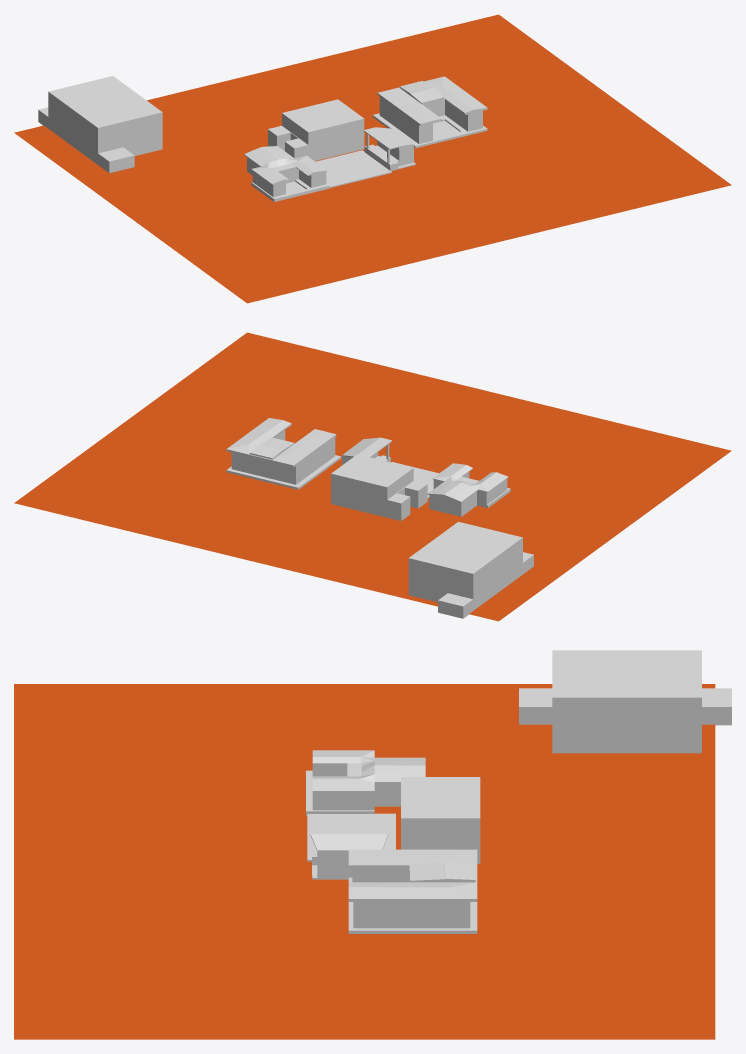
Rendered from croquis.dae.
The picture shows the model from 3 angles, top to bottom: view 1: azimuth 30°, elevation 25°; view 2: azimuth 150°, elevation 25°; view 3: azimuth 270°, elevation 25°; orthographic projection. The views are drawn at different scales.
Visible parts, largest first — view 1: Plane, Cube.001, Cube.005, Cube.004, Cube.003, Cube, Cube.002; view 2: Plane, Cube.001, Cube.005, Cube.004, Cube.003, Cube.002; view 3: Plane, Cube.001, Cube.005, Cube.003, Cube.004, Cube.002, Cube.
Boxes of the visible parts, bbox=[...] form: Plane: bbox=[14, 14, 731, 303]; Cube.001: bbox=[38, 76, 162, 173]; Cube.005: bbox=[372, 76, 487, 148]; Cube.004: bbox=[268, 99, 364, 160]; Cube.003: bbox=[244, 146, 329, 201]; Cube: bbox=[315, 150, 391, 187]; Cube.002: bbox=[363, 127, 415, 170]; Plane: bbox=[14, 332, 731, 621]; Cube.001: bbox=[408, 521, 533, 618]; Cube.005: bbox=[226, 418, 341, 489]; Cube.004: bbox=[331, 454, 427, 520]; Cube.003: bbox=[427, 463, 510, 516]; Cube.002: bbox=[342, 437, 392, 465]; Plane: bbox=[14, 684, 715, 1039]; Cube.001: bbox=[519, 650, 731, 753]; Cube.005: bbox=[348, 849, 477, 933]; Cube.003: bbox=[306, 750, 425, 815]; Cube.004: bbox=[401, 777, 480, 863]; Cube.002: bbox=[310, 825, 388, 879]; Cube: bbox=[307, 813, 395, 861].
Bounding box in the file's own units: 360 × 307 × 26.74.
